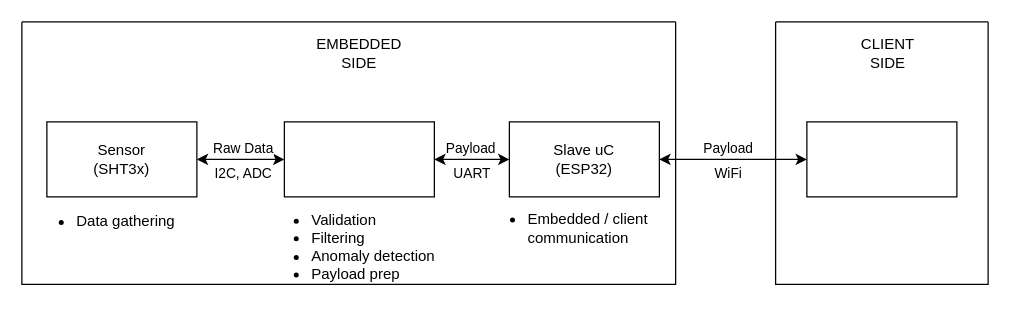
The diagram is 1010 pixels wide and 320 high, and some of its shapes have lost their labels. The centre of each missing label's shape, as x and y in pixels:
Master uC (STM32U5): the point at 358,159
Receiver (Server): the point at 881,159
